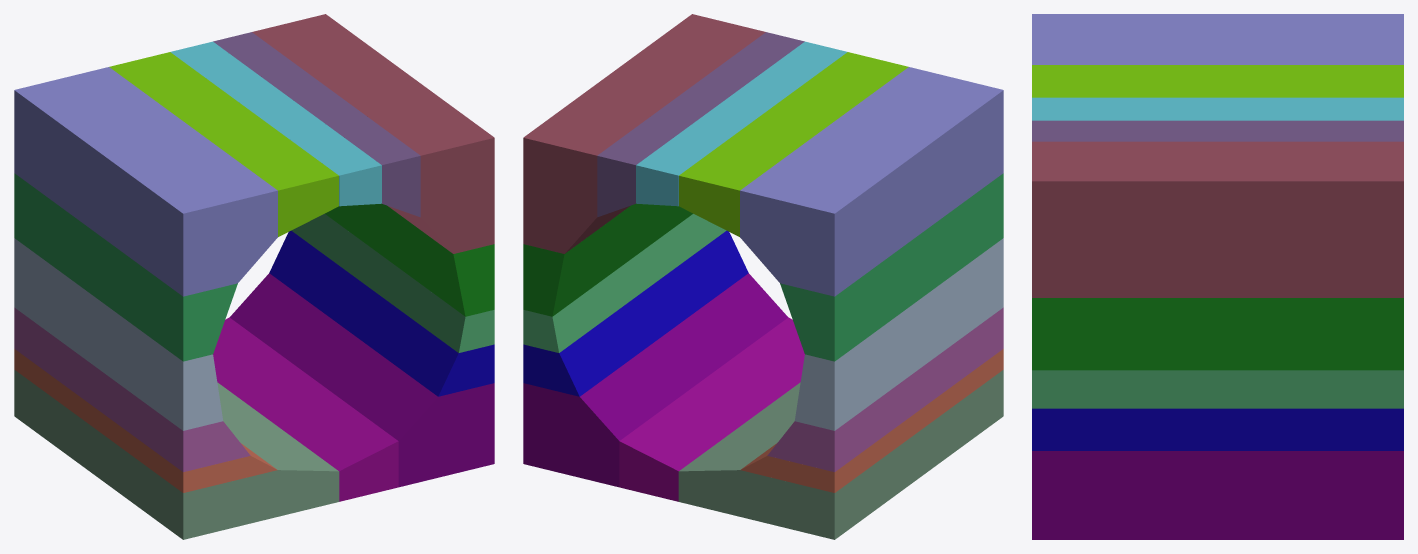
The model's file is hole_3.obj.
3 renders of one model, left to right at view 1: azimuth 30°, elevation 25°; view 2: azimuth 150°, elevation 25°; view 3: azimuth 270°, elevation 25°, orthographic. The views are drawn at different scales.
Parts seen in each view (by area): view 1: geometry_12, geometry_13, geometry_11, geometry_0, geometry_6, geometry_10, geometry_14, geometry_4, geometry_5, geometry_7, geometry_2, geometry_1 (+3 smaller); view 2: geometry_12, geometry_13, geometry_11, geometry_0, geometry_6, geometry_10, geometry_14, geometry_4, geometry_5, geometry_7, geometry_2, geometry_1 (+3 smaller); view 3: geometry_13, geometry_11, geometry_8, geometry_12, geometry_5, geometry_3, geometry_4, geometry_2, geometry_1.
Boxes of the visible parts, left/top/right/bottom form: geometry_12: left=14, top=67, right=277, bottom=296; geometry_13: left=252, top=14, right=494, bottom=253; geometry_11: left=229, top=273, right=494, bottom=487; geometry_0: left=14, top=370, right=339, bottom=539; geometry_6: left=14, top=238, right=223, bottom=430; geometry_10: left=14, top=173, right=237, bottom=361; geometry_14: left=213, top=317, right=398, bottom=501; geometry_4: left=109, top=52, right=338, bottom=236; geometry_5: left=269, top=230, right=494, bottom=396; geometry_7: left=14, top=307, right=250, bottom=472; geometry_2: left=170, top=41, right=381, bottom=206; geometry_1: left=213, top=32, right=420, bottom=217; geometry_12: left=740, top=67, right=1003, bottom=296; geometry_13: left=523, top=14, right=765, bottom=253; geometry_11: left=523, top=273, right=788, bottom=487; geometry_0: left=678, top=370, right=1003, bottom=539; geometry_6: left=794, top=238, right=1003, bottom=430; geometry_10: left=780, top=173, right=1003, bottom=361; geometry_14: left=619, top=317, right=804, bottom=501; geometry_4: left=679, top=52, right=908, bottom=236; geometry_5: left=523, top=230, right=748, bottom=396; geometry_7: left=767, top=307, right=1003, bottom=472; geometry_2: left=636, top=41, right=847, bottom=206; geometry_1: left=597, top=32, right=804, bottom=217; geometry_13: left=1032, top=141, right=1403, bottom=297; geometry_11: left=1032, top=451, right=1403, bottom=539; geometry_8: left=1032, top=298, right=1403, bottom=370; geometry_12: left=1032, top=14, right=1403, bottom=64; geometry_5: left=1032, top=408, right=1403, bottom=450; geometry_3: left=1032, top=370, right=1403, bottom=408; geometry_4: left=1032, top=65, right=1403, bottom=97; geometry_2: left=1032, top=97, right=1403, bottom=120; geometry_1: left=1032, top=120, right=1403, bottom=141.
Size of the model in its own units: 0.0532 by 0.0532 by 0.05.
